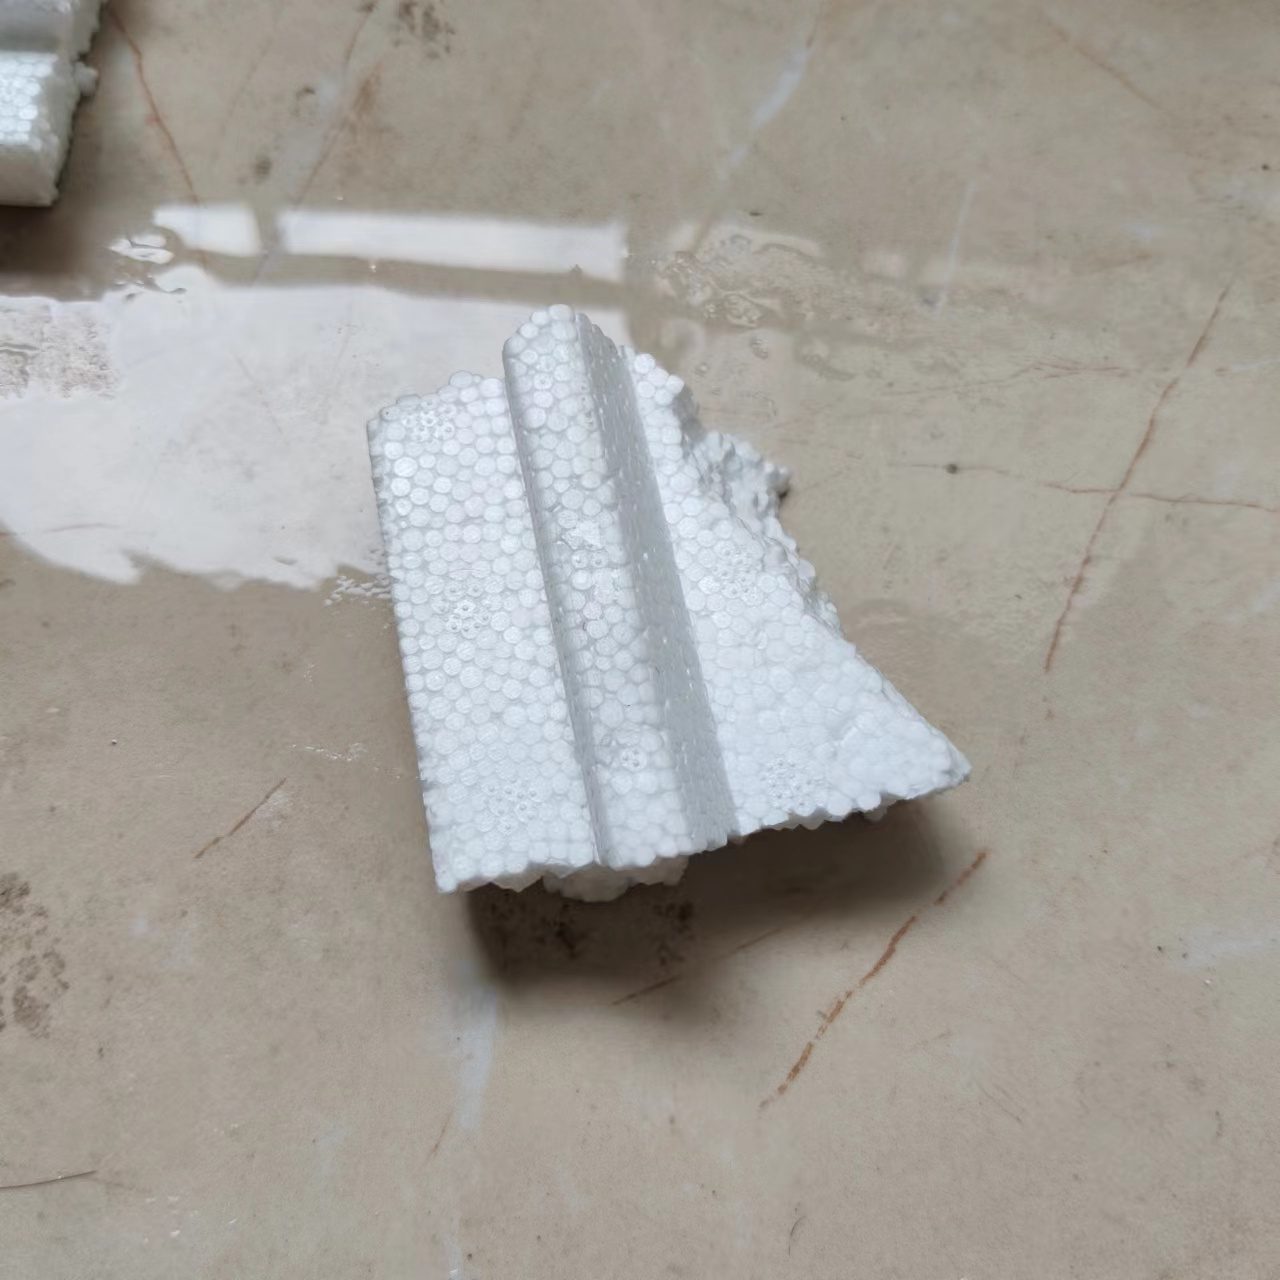5/可回收垃圾/泡沫: (359, 304, 971, 903), (1, 1, 109, 207)
